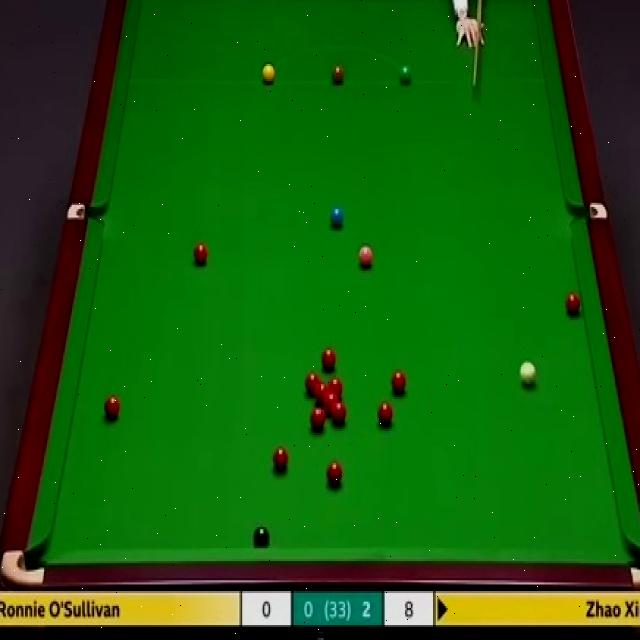black-ball: (252, 524, 270, 553)
blue-ball: (328, 206, 344, 230)
brown-ball: (332, 64, 344, 85)
green-ball: (398, 63, 412, 85)
pink-ball: (354, 243, 375, 272)
red-ball: (564, 291, 584, 321), (272, 447, 292, 475), (102, 395, 120, 420), (390, 370, 408, 395), (376, 402, 393, 428), (192, 244, 210, 268), (327, 461, 344, 486), (301, 371, 317, 396), (321, 348, 337, 372), (331, 403, 346, 427), (327, 377, 344, 398), (313, 382, 329, 403), (310, 408, 325, 430), (323, 391, 338, 412)
white-ball: (517, 359, 537, 389)
yellow-ball: (262, 64, 276, 86)
